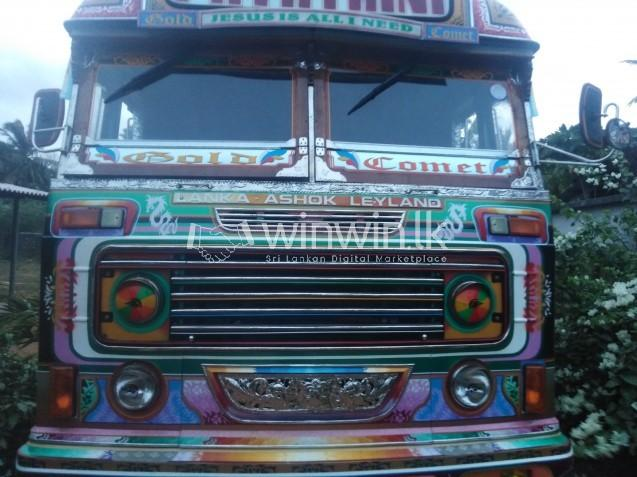truck: (14, 1, 630, 477)
